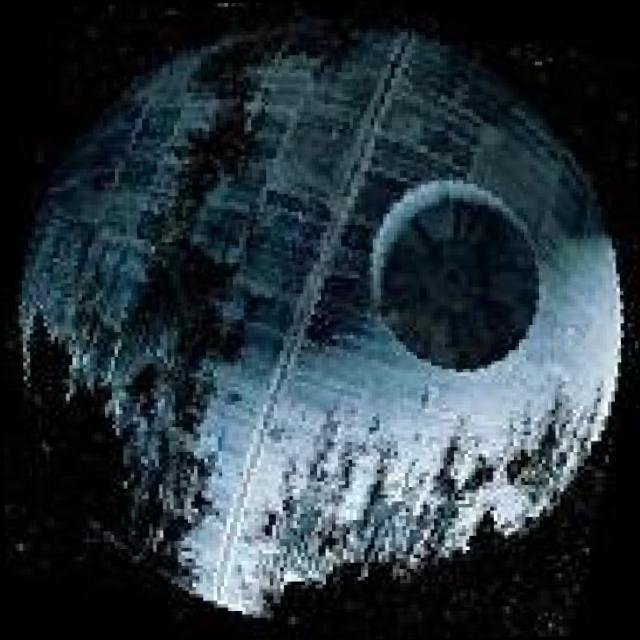Death Star: (6, 13, 638, 632)
